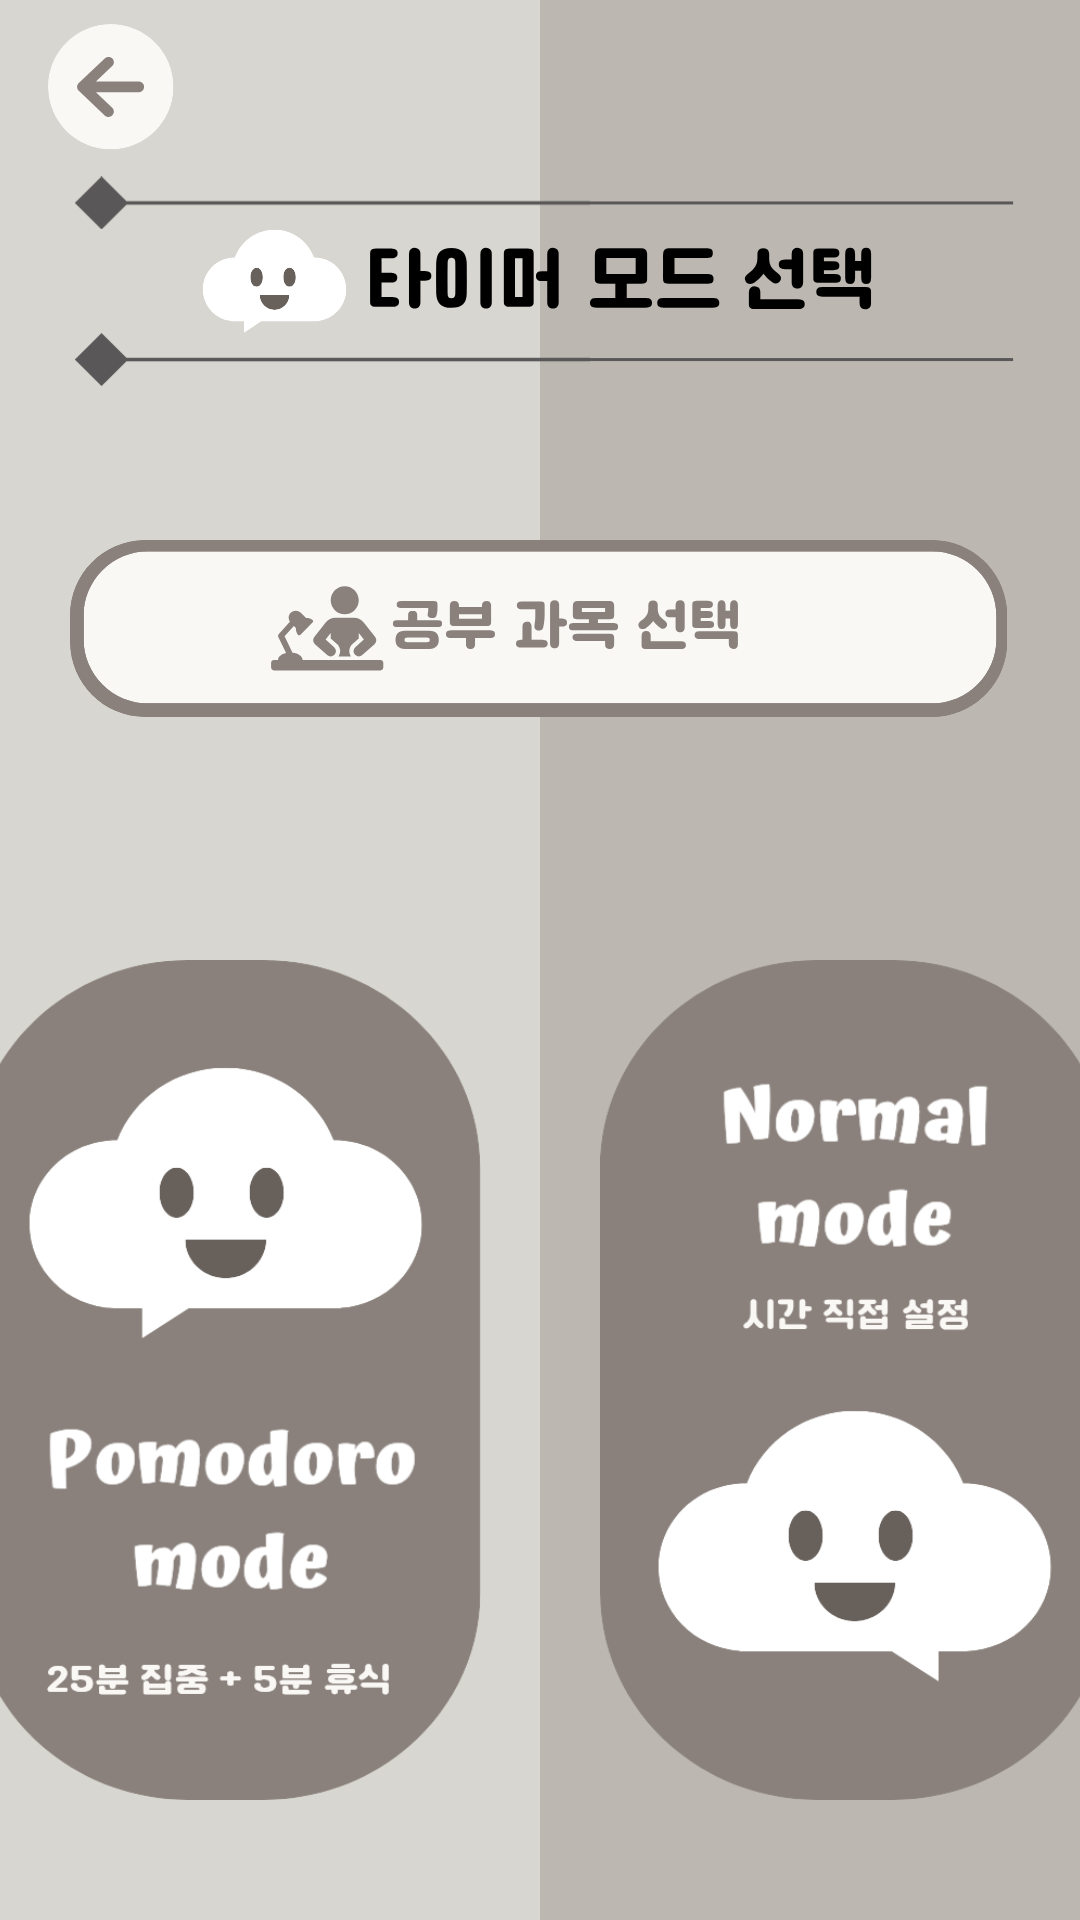

Where icons sit on this 1080px x 1920px app screen, as region(x1, y1, x2, y2):
back: region(48, 24, 173, 149)
